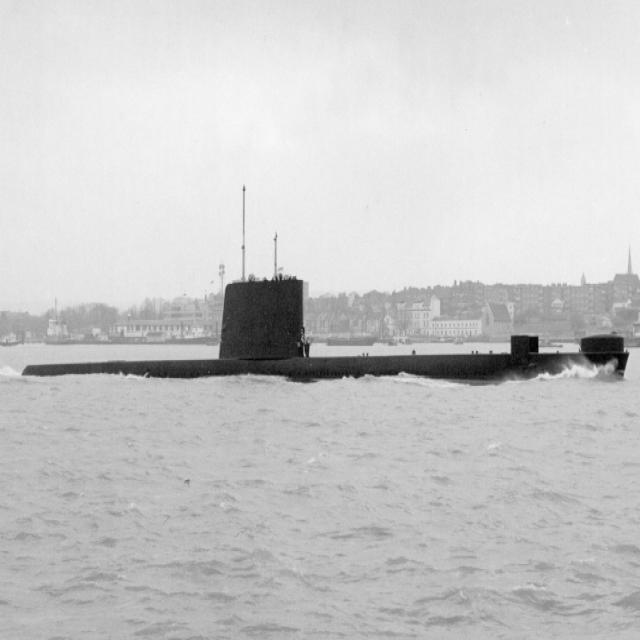submarine: (19, 278, 636, 379)
